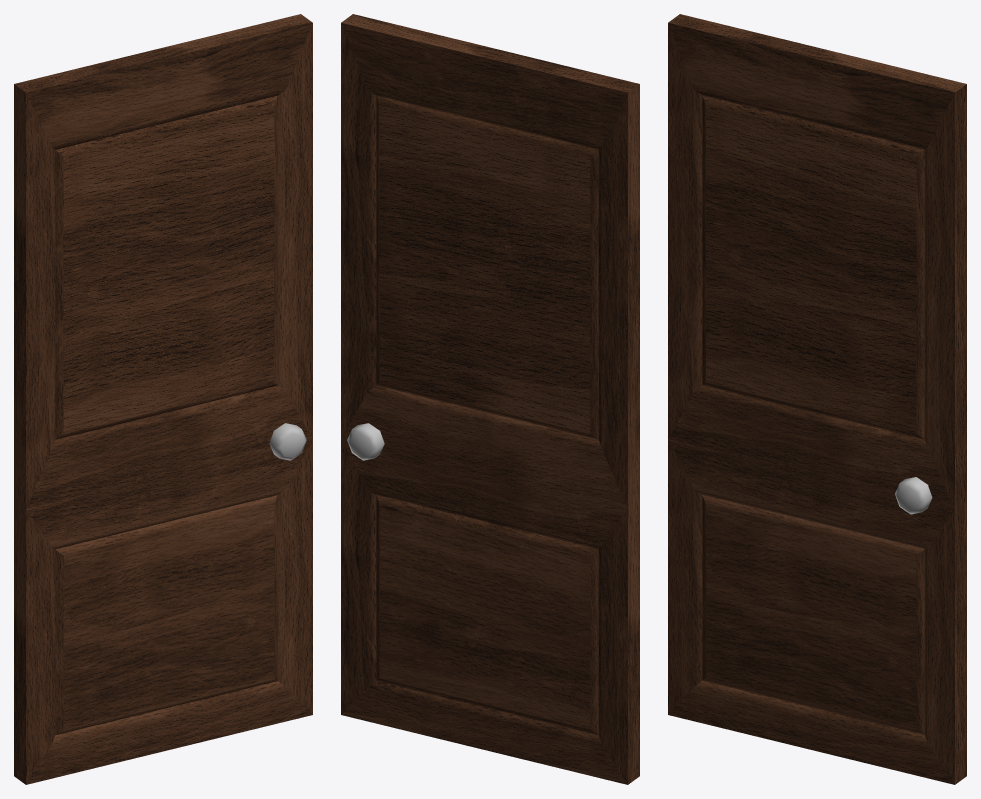
Rendered from door_011.fbx.
The picture shows the model from 3 angles, left to right: view 1: azimuth 30°, elevation 25°; view 2: azimuth 150°, elevation 25°; view 3: azimuth 330°, elevation 25°; orthographic projection.
Parts seen in each view (by area): view 1: door_011; view 2: door_011; view 3: door_011.
Boxes of the visible parts, box(x1,y1,x2,y2) form: door_011: box(14, 14, 312, 784); door_011: box(341, 14, 639, 784); door_011: box(668, 14, 966, 784).
Bounding box in the file's own units: 95.15 × 23.13 × 219.
